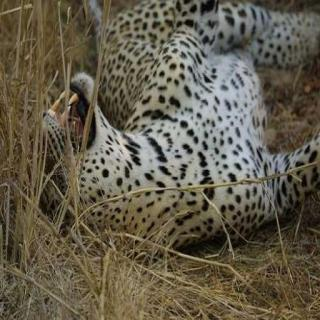Leopard: (18, 19, 320, 272)
